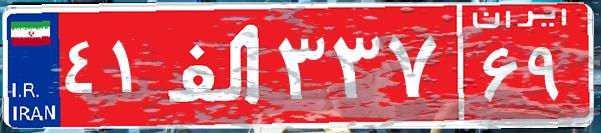1: (110, 28, 158, 105)
3: (273, 28, 330, 110), (330, 28, 385, 110)
4: (57, 26, 110, 107)
6: (475, 38, 525, 113)
7: (385, 28, 445, 110)
9: (525, 38, 570, 115)
الف: (158, 15, 273, 115)
